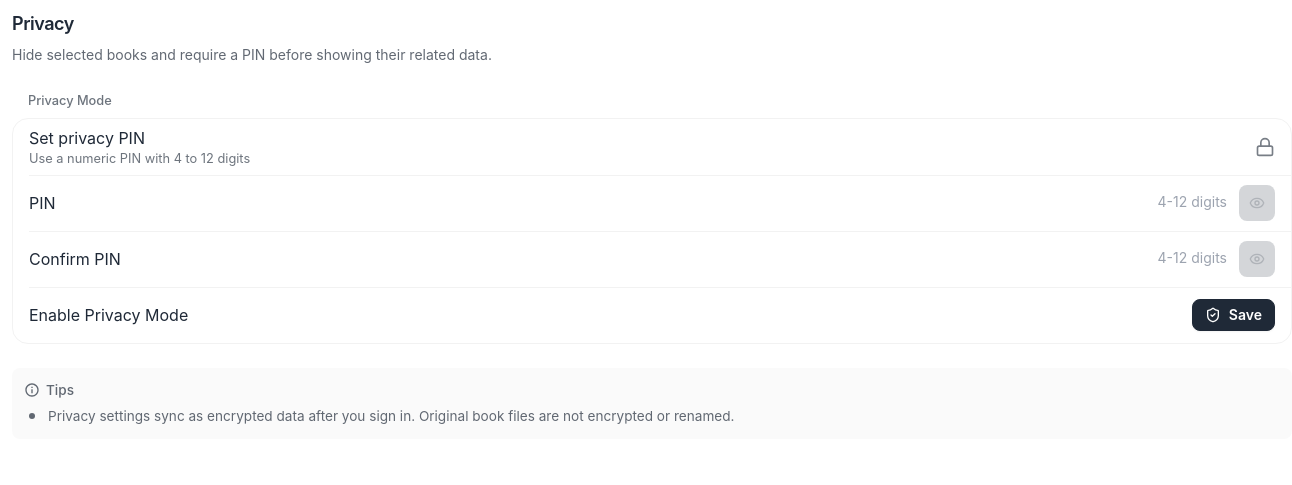
Test: restores PIN inputs after a crypto or storage failure
In the password field labelled "PIN": (1127, 203) [1019,185,1235,221], type "1234"
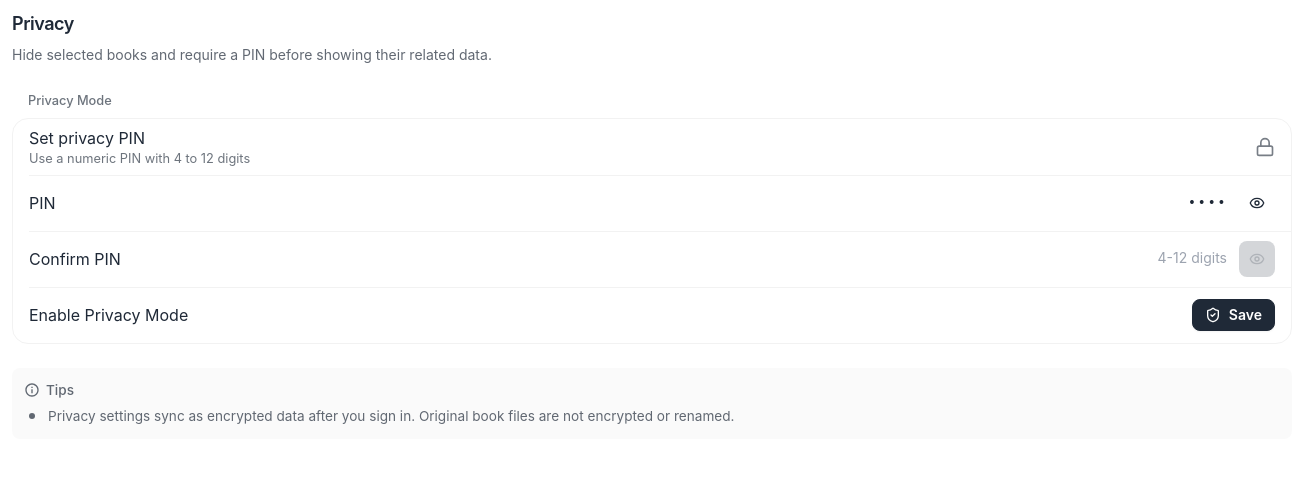
In the password field labelled "Confirm PIN": (1127, 259) [1019,241,1235,277], type "1234"
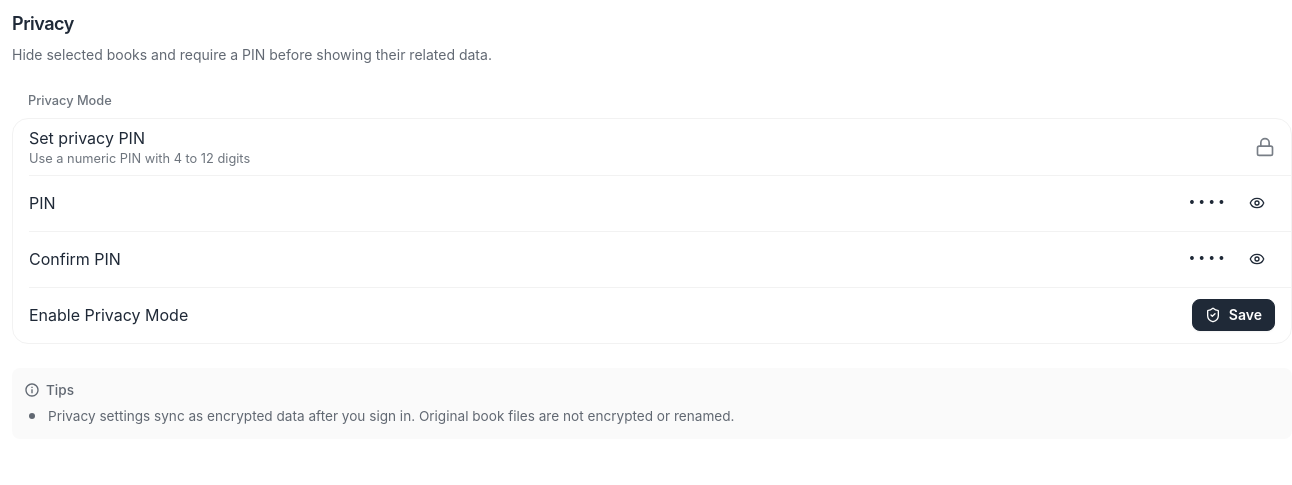
Click the button "Save": (1233, 315) [1192,299,1275,331]
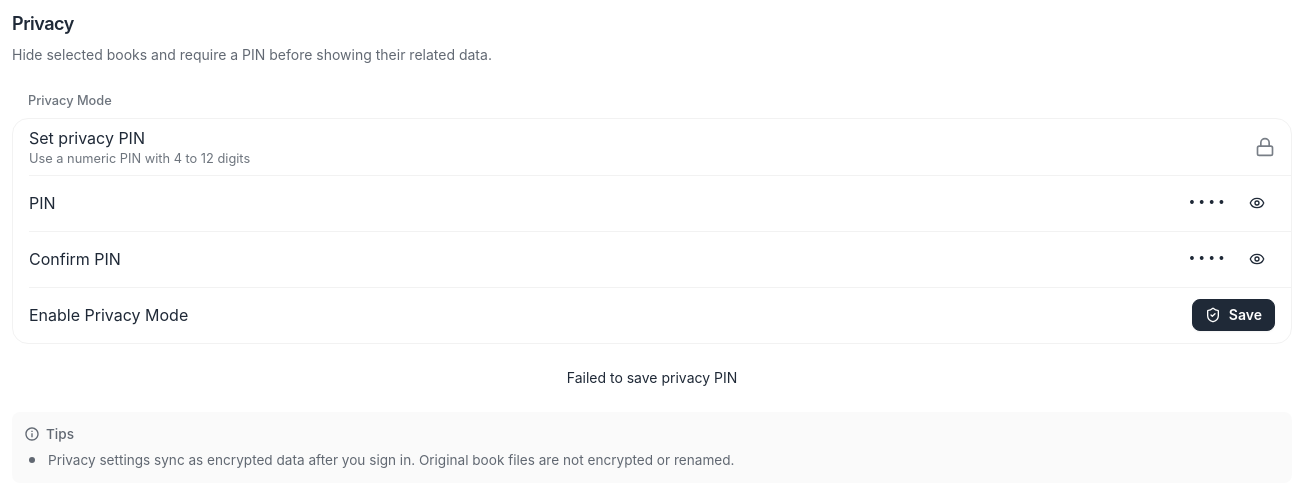
Expected: the password field labelled "PIN" is enabled, [1019,185,1235,221]
Expected: the message reads "Failed to save privacy PIN", [567,369,737,386]
Click the button "Save": (1233, 315) [1192,299,1275,331]
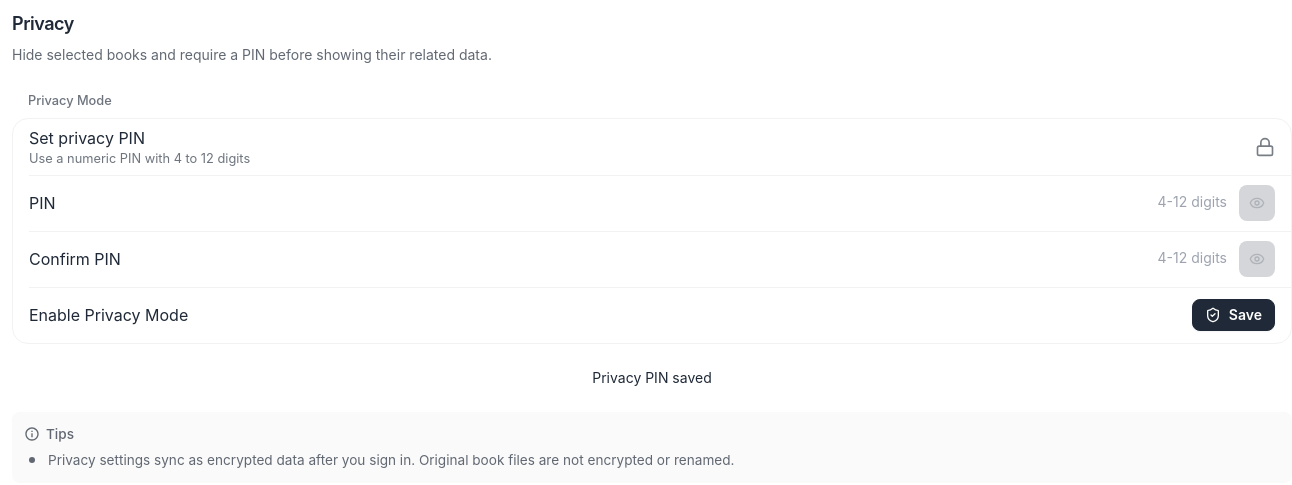
Expected: the message reads "Privacy PIN saved", [592,369,712,386]
